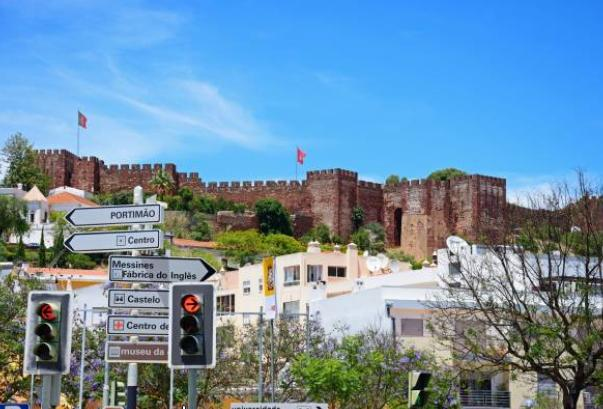red_light: (24, 290, 75, 373), (168, 282, 216, 368)
